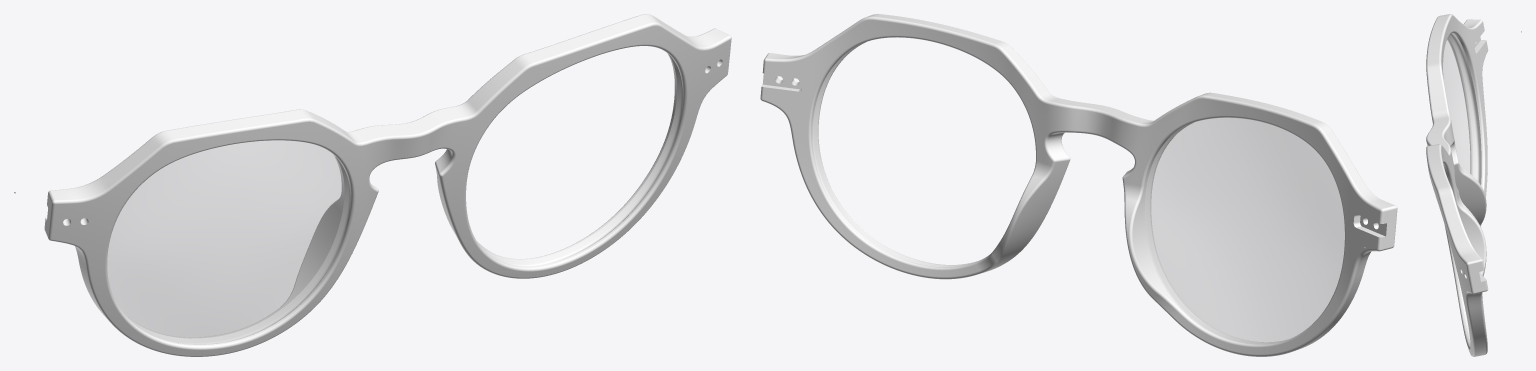
File: IGV4.76C.gltf
3 views of the same model, side by side, from view 1: azimuth 30°, elevation 25°; view 2: azimuth 150°, elevation 25°; view 3: azimuth 270°, elevation 25° (orthographic). The views are drawn at different scales.
Parts seen in each view (by area): view 1: FRONTALE, LENTE_DX; view 2: FRONTALE, LENTE_DX; view 3: FRONTALE, LENTE_DX.
Boxes of the visible parts, x1,y1,x2,y2 form: FRONTALE: [44, 14, 731, 356]; LENTE_DX: [107, 140, 349, 344]; FRONTALE: [760, 14, 1397, 356]; LENTE_DX: [1145, 118, 1344, 343]; FRONTALE: [1426, 14, 1488, 356]; LENTE_DX: [1443, 33, 1481, 184].
Size of the model in its own units: 1.32 by 0.4652 by 0.2178.
Materials: 3 (1 with a texture image).
